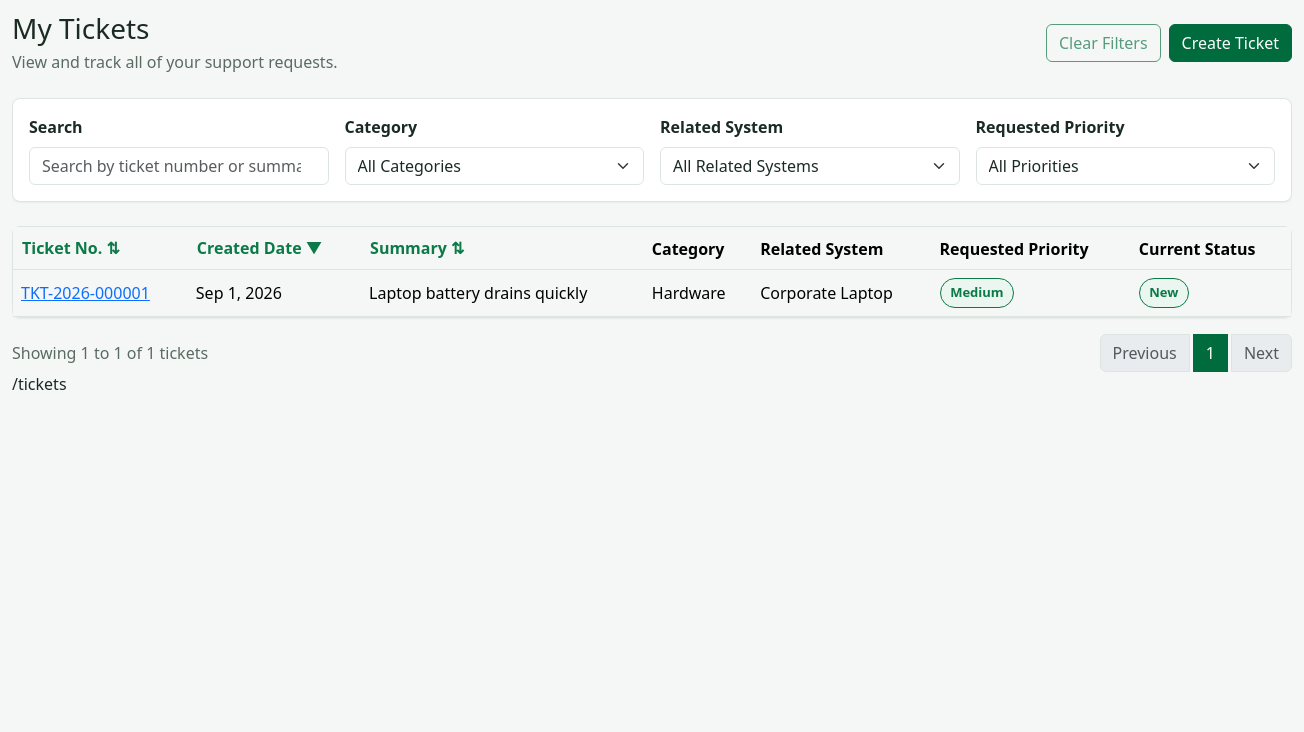
Test: My Tickets — states › UI-11: shows a distinct no-results state when filters match nothing
Select "Hardware" in the dropdown labelled "Category": (494, 166) [344,147,644,185]
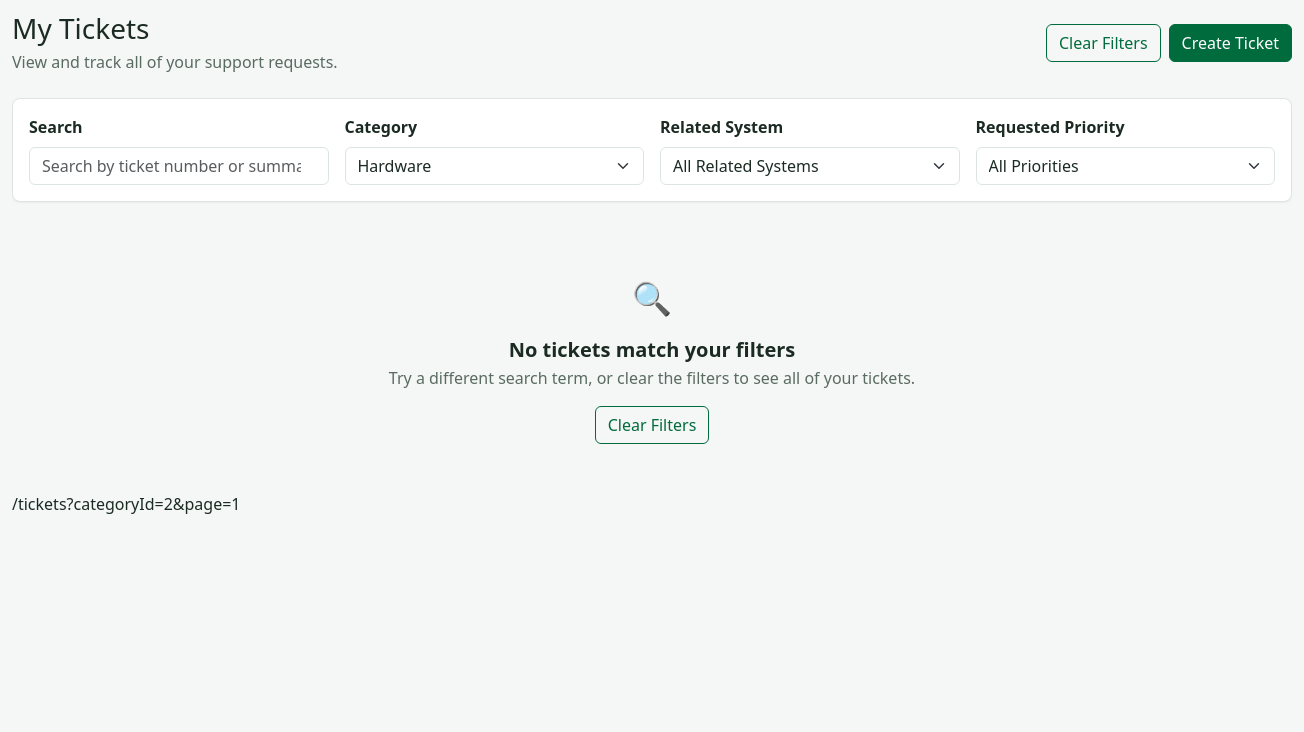
Expected: the button "Clear Filters" next to "Create Ticket" is shown, [1046,24,1160,62]
Now the heading "No tickets match your filters" is shown, box [509,336,795,363]
